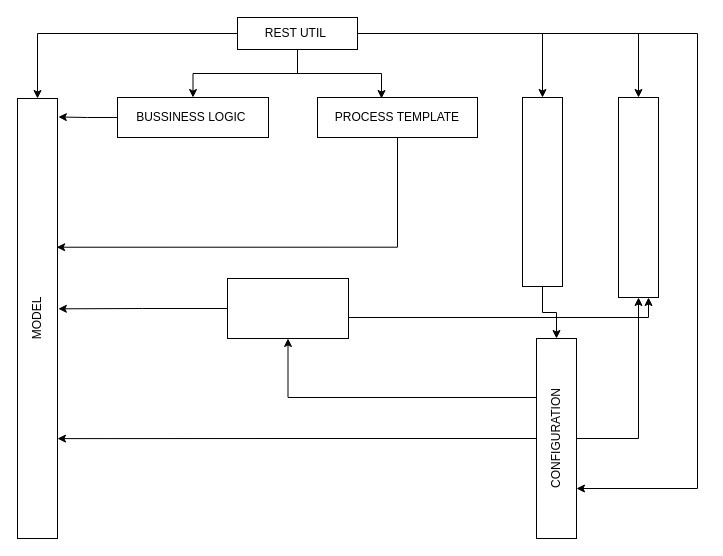
Some shapes in this 723 by 556 pixel diagram are drawn without their labels. Each missing label, with the box of its shape:
CACHE: (618, 96, 658, 298)
DATA ACCESS: (226, 278, 348, 338)
UTIL: (522, 96, 562, 286)
